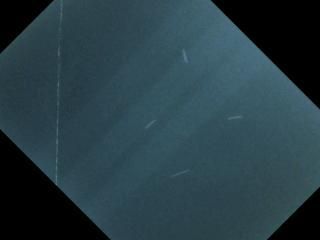crack: (48, 0, 69, 187)
scratch: (165, 165, 197, 181), (176, 43, 194, 71), (136, 115, 163, 133), (224, 110, 246, 124)
